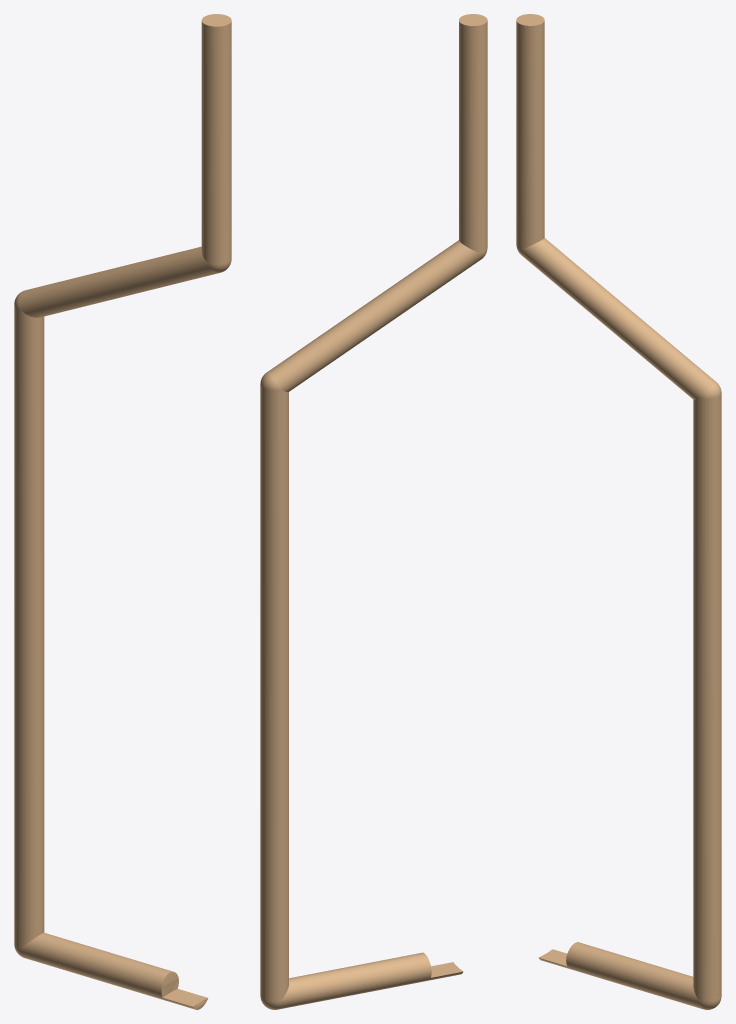
File: starter-solenoid-lead-pull-m.glb
3 views of the same model, side by side, from view 1: azimuth 90°, elevation 25°; view 2: azimuth 150°, elevation 25°; view 3: azimuth 270°, elevation 25° (orthographic). The views are drawn at different scales.
Parts seen in each view (by area): view 1: world; view 2: world; view 3: world.
Part boxes in pixels (x1=…): world: x1=14, y1=14, x2=231, y2=1009; world: x1=260, y1=14, x2=487, y2=1009; world: x1=516, y1=14, x2=721, y2=1009.
Size of the model in its own units: 0.0043 by 0.0292 by 0.0058.
